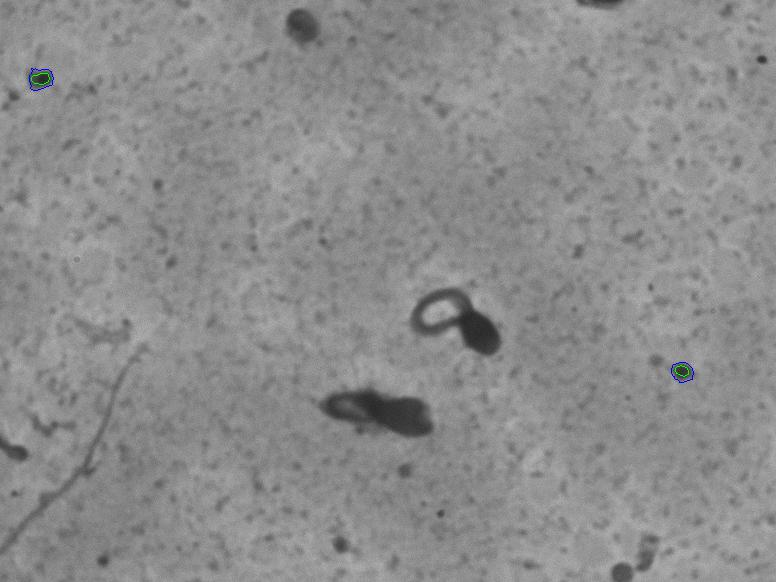Abnormal: (392, 255, 518, 369), (310, 367, 458, 458)
